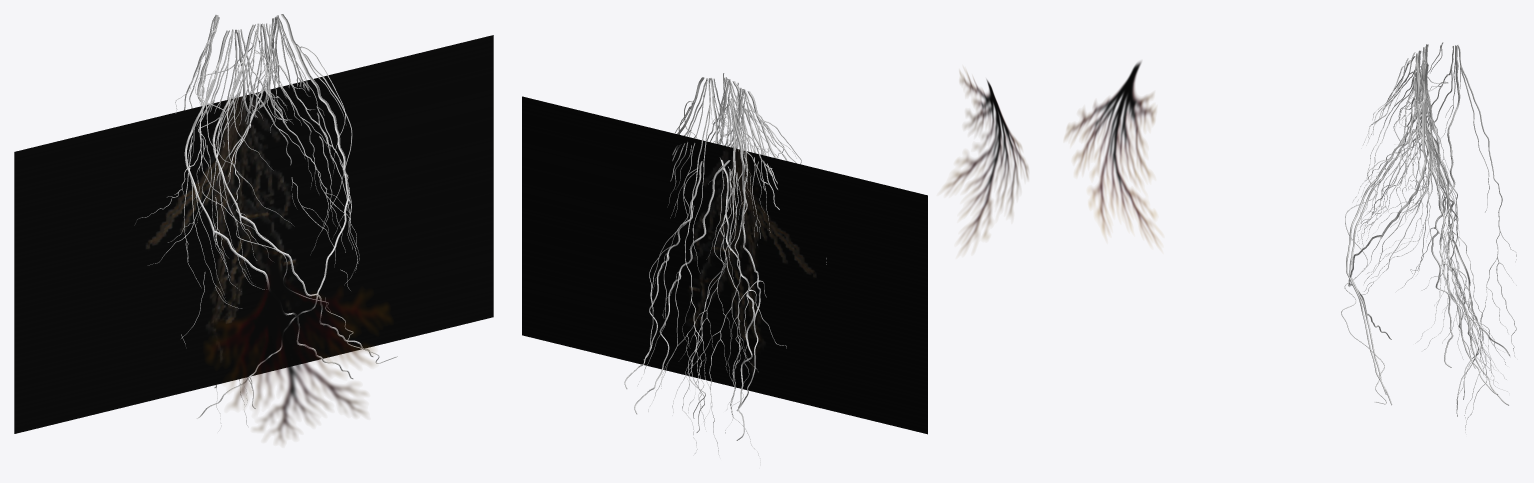
The model's file is roots.glb.
3 views of the same model, side by side, from view 1: azimuth 30°, elevation 25°; view 2: azimuth 150°, elevation 25°; view 3: azimuth 270°, elevation 25° (orthographic). The views are drawn at different scales.
Visible parts, largest first — view 1: bg-image, image, root-01, root-02, root-03, twist; view 2: bg-image, root-01, image, root-03, root-02, twist; view 3: root-01, image, root-03, root-02, twist.
Part boxes in pixels (left/top/right/bottom): bg-image: left=14, top=35, right=493, bottom=433; image: left=206, top=257, right=390, bottom=442; root-01: left=134, top=15, right=373, bottom=409; root-02: left=183, top=29, right=353, bottom=431; root-03: left=181, top=14, right=359, bottom=427; twist: left=195, top=41, right=397, bottom=408; bg-image: left=522, top=96, right=927, bottom=434; root-01: left=624, top=73, right=826, bottom=464; image: left=944, top=72, right=1028, bottom=250; root-03: left=668, top=77, right=786, bottom=453; root-02: left=634, top=83, right=801, bottom=456; twist: left=643, top=94, right=769, bottom=432; root-01: left=1346, top=42, right=1517, bottom=407; image: left=1065, top=61, right=1157, bottom=244; root-03: left=1348, top=56, right=1510, bottom=434; root-02: left=1349, top=44, right=1509, bottom=418; twist: left=1341, top=70, right=1479, bottom=416.
Bounding box in the file's own units: 11.35 × 9.72 × 10.74.
Materials: 2 (2 with a texture image).
